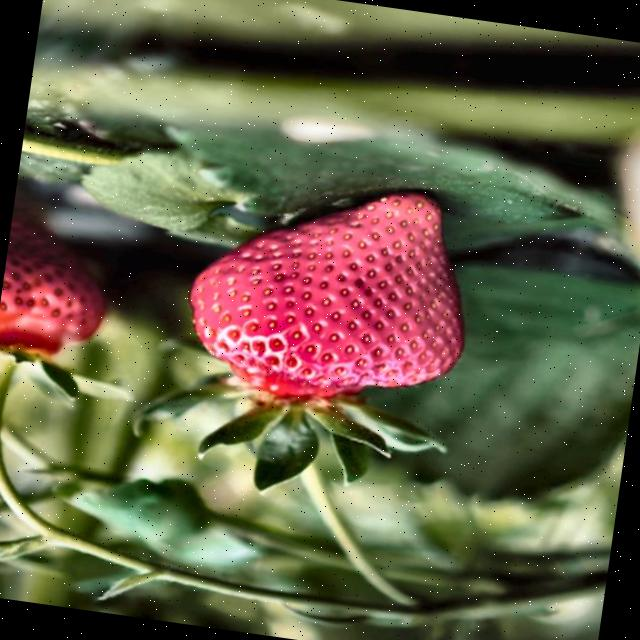strawberry: (189, 192, 463, 398), (0, 217, 104, 355)
